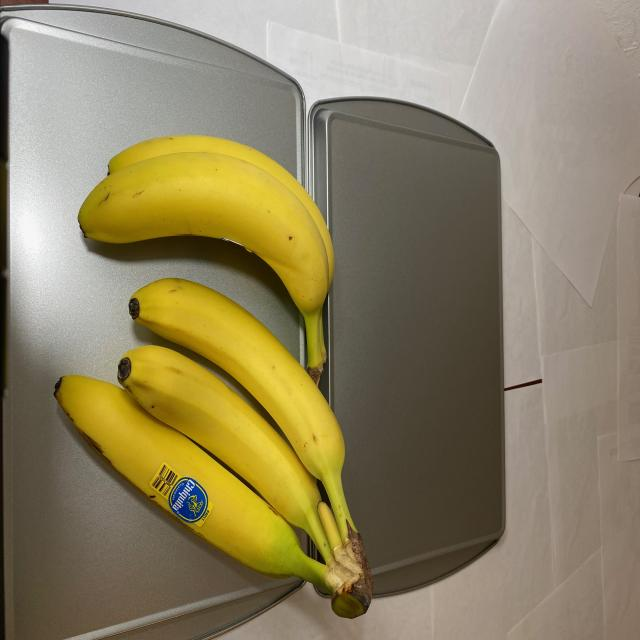banana: (50, 128, 374, 624)
